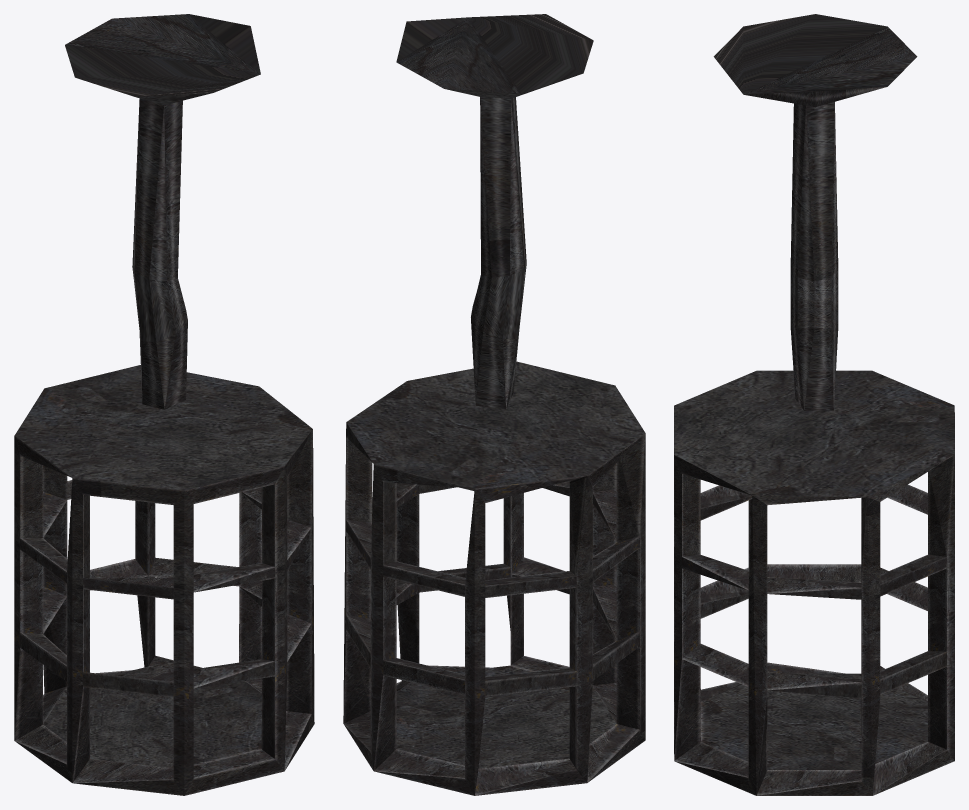
Rendered from tavern_lamp2_LOD.dae.
The picture shows the model from 3 angles, left to right: view 1: azimuth 30°, elevation 25°; view 2: azimuth 150°, elevation 25°; view 3: azimuth 270°, elevation 25°; orthographic projection.
Visible parts, largest first — view 1: Default_Layer; view 2: Default_Layer; view 3: Default_Layer.
Boxes of the visible parts, <box> form: Default_Layer: <box>14,14,314,795</box>; Default_Layer: <box>343,14,645,795</box>; Default_Layer: <box>674,14,954,795</box>.
Size of the model in its own units: 0.4621 by 1.25 by 0.4621.
